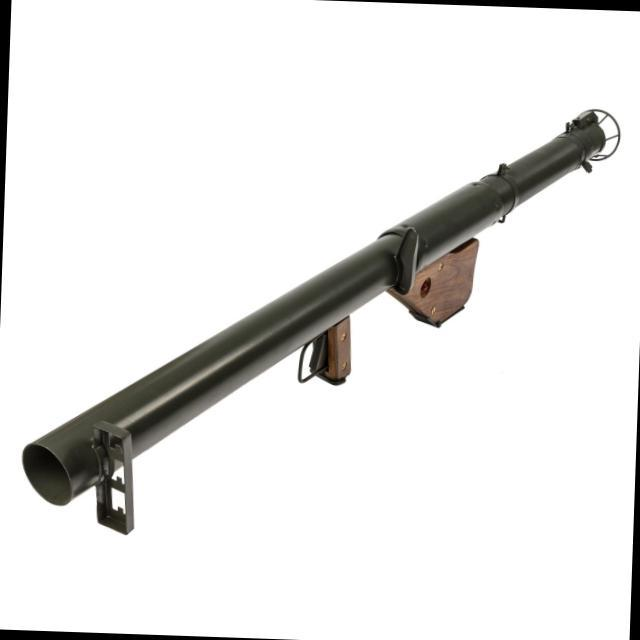rocket: (17, 78, 621, 531)
